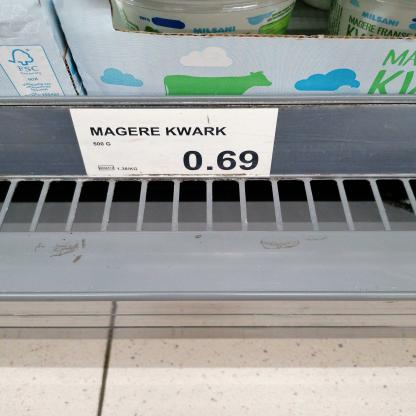prtg: (71, 110, 279, 178)
